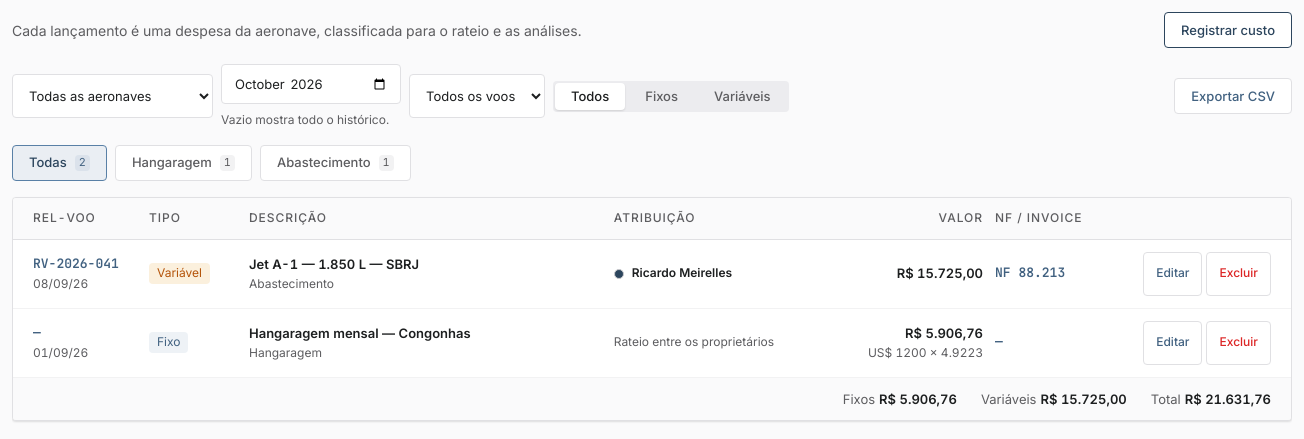
Test: PaginaDeCustos › o filtro por voo mostra só os lançamentos daquele Rel. Voo
Expected: the text "Jet A-1 — 1.850 L — SBRJ" is shown, [249,256,419,272]
Select "RV-2026-041" in the 2nd dropdown named "Filtrar por voo" at (477, 96), box [409,74,545,118]
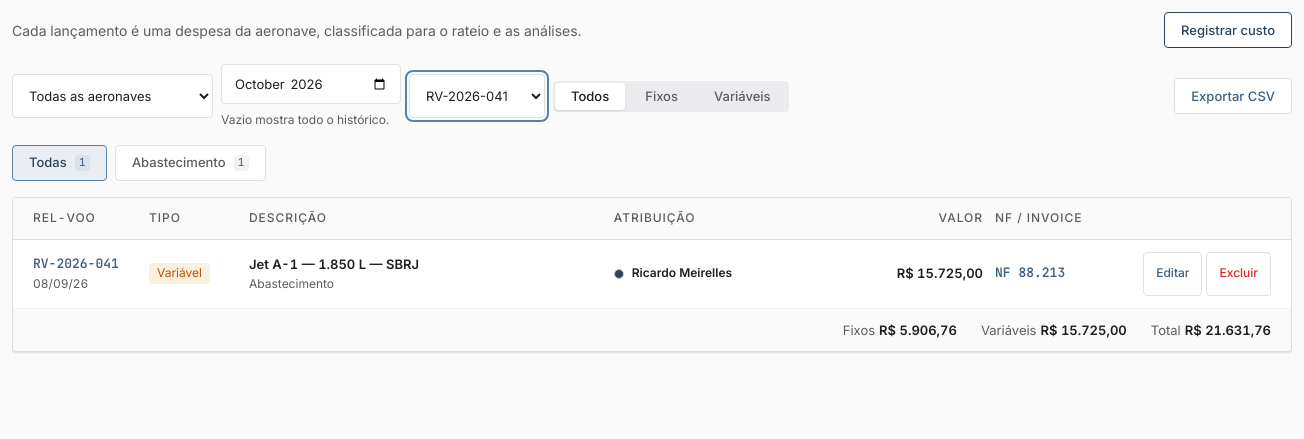
Expected: the text "Jet A-1 — 1.850 L — SBRJ" is shown, [249,256,419,272]
Now the text "Hangaragem mensal — Congonhas" is gone
